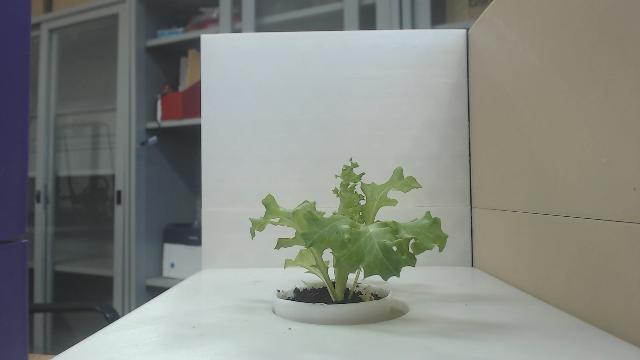Vegetative Stage: (248, 156, 452, 304)
